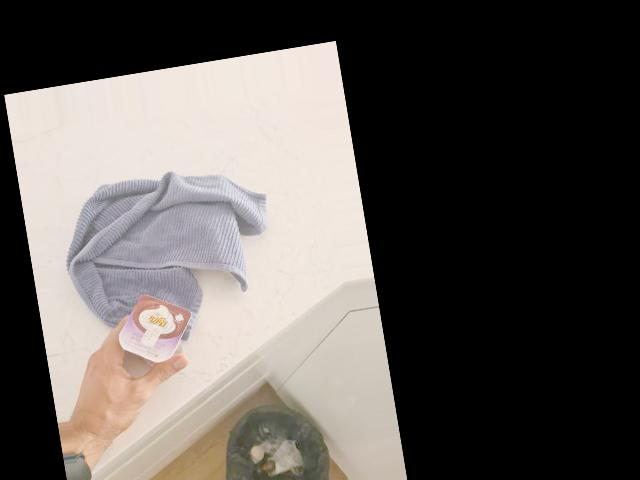milky: (115, 291, 199, 371)
